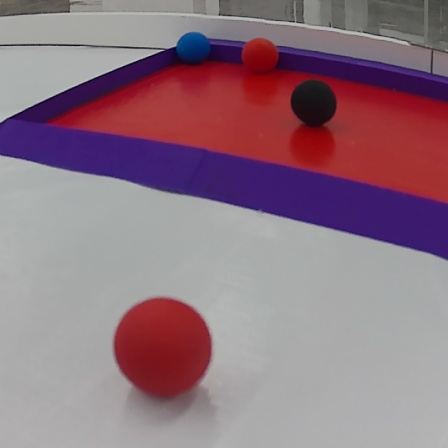black: (288, 75, 338, 129)
blue: (173, 32, 213, 68)
red: (111, 295, 218, 399), (237, 37, 284, 74)
red_aim: (1, 38, 448, 266)
